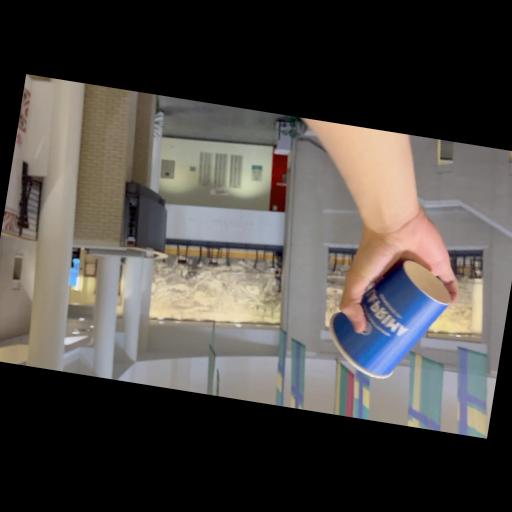lp_paper_cup: (322, 249, 458, 388)
